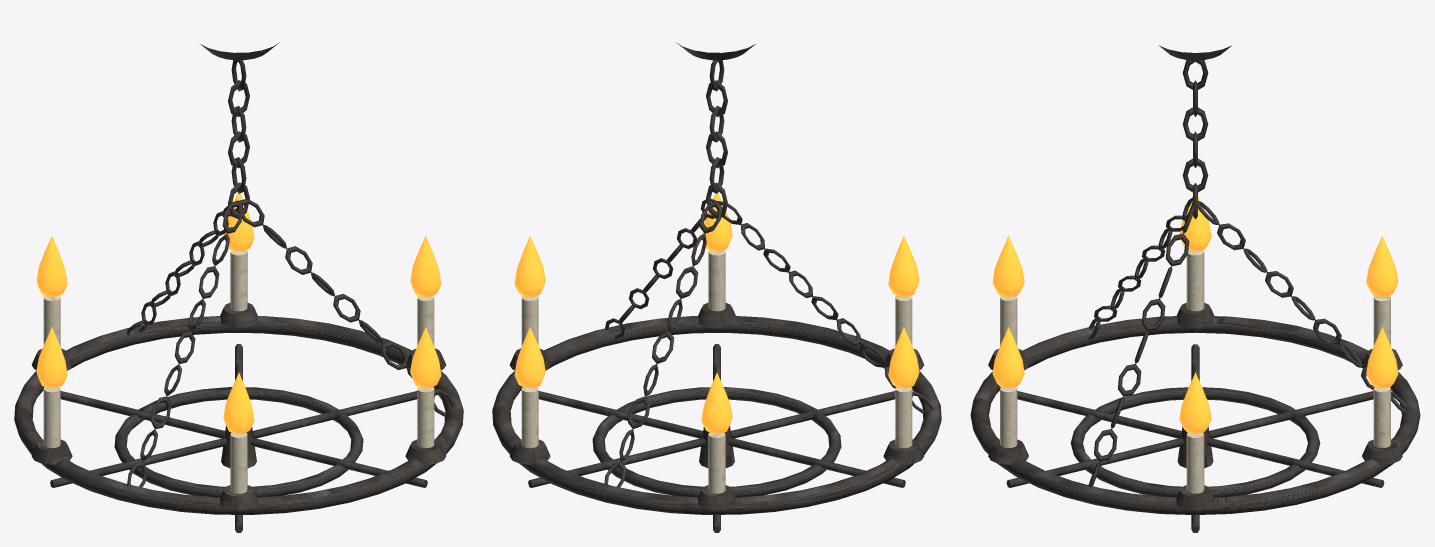
Rendered from chandelier.glb.
3 views of the same model, side by side, from view 1: azimuth 30°, elevation 25°; view 2: azimuth 150°, elevation 25°; view 3: azimuth 270°, elevation 25° (orthographic).
Parts seen in each view (by area): view 1: Chandelier_iron, Flame, Chandelier_wax; view 2: Chandelier_iron, Flame, Chandelier_wax; view 3: Chandelier_iron, Flame, Chandelier_wax.
Part boxes in pixels (left/top/right/bottom): Chandelier_iron: left=14, top=42, right=463, bottom=532; Flame: left=36, top=192, right=441, bottom=433; Chandelier_wax: left=43, top=250, right=434, bottom=493; Chandelier_iron: left=492, top=42, right=941, bottom=532; Flame: left=514, top=192, right=919, bottom=433; Chandelier_wax: left=521, top=250, right=912, bottom=493; Chandelier_iron: left=970, top=45, right=1420, bottom=532; Flame: left=992, top=196, right=1398, bottom=433; Chandelier_wax: left=1000, top=250, right=1390, bottom=493.
Size of the model in its own units: 0.92 by 0.92 by 0.876.
3 materials, 2 textured.
